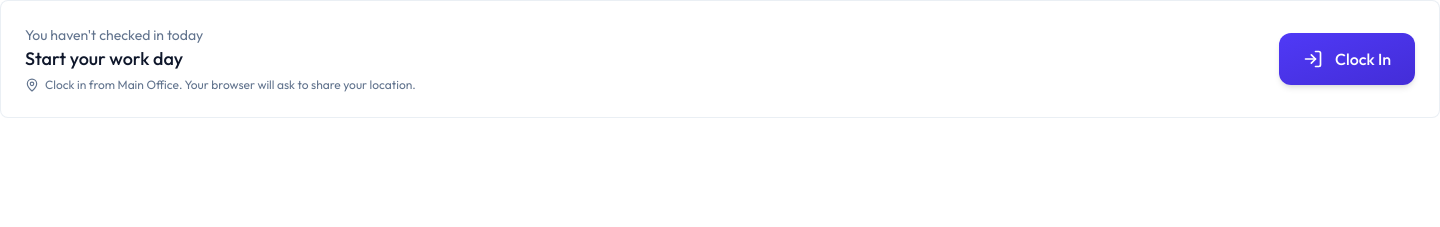
Test case: CheckInCard › explains that the employee is away from the work location
The image size is (1440, 227).
Expected: the text "Clock in from Main Office" is shown, [45, 77, 416, 92]
Click the button "Clock In".
click(1347, 59)  # box [1279, 33, 1415, 85]
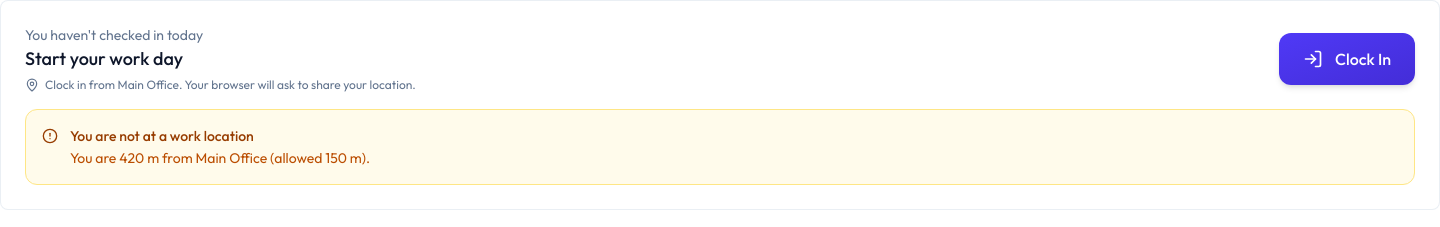
Expected: the message shows "You are not at a work location", [70, 127, 254, 145]
Expected: the message shows "You are 420 m from Main Office (allowed 150 m).", [70, 149, 370, 167]
